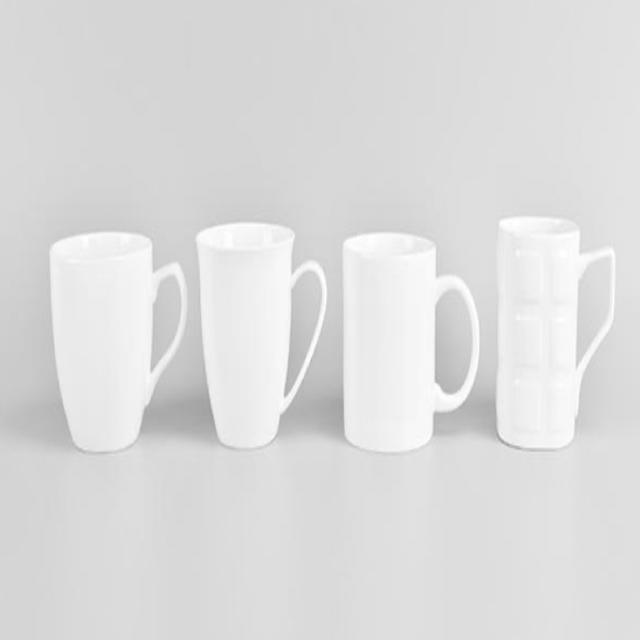recyclable: (334, 212, 484, 466), (188, 204, 334, 461), (489, 199, 625, 459), (42, 218, 188, 460)
